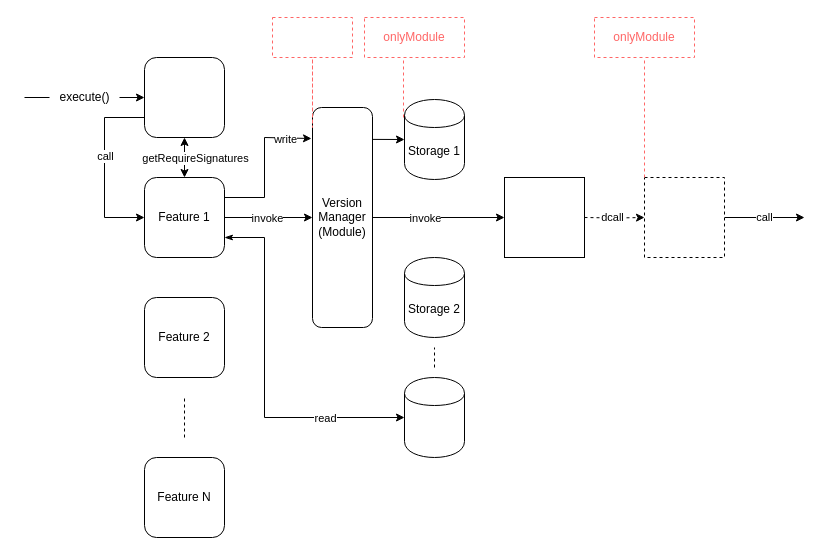
The diagram is 830 pixels wide and 555 high, and some of its shapes have lost their labels. Each missing label, with the centre of its shape:
BaseWallet: point 684,217
onlyFeature: point 312,72
Proxy: point 544,217
Relayer Feature: point 184,97
Storage K: point 434,417
